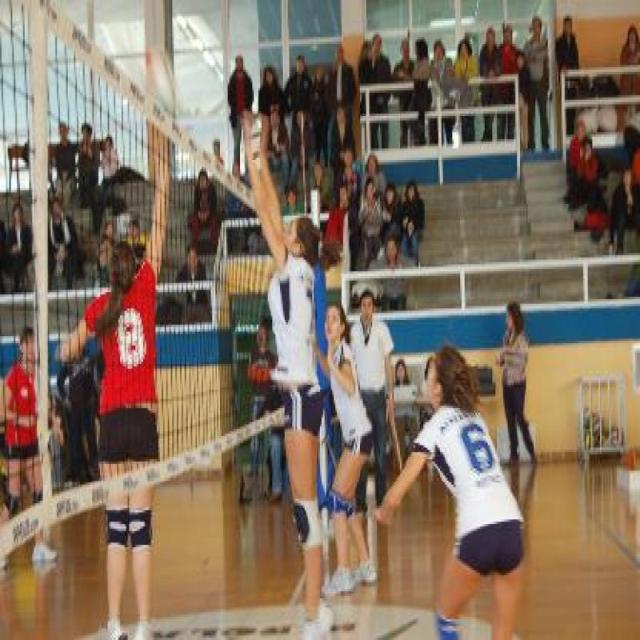volleyball: (580, 403, 623, 448)
